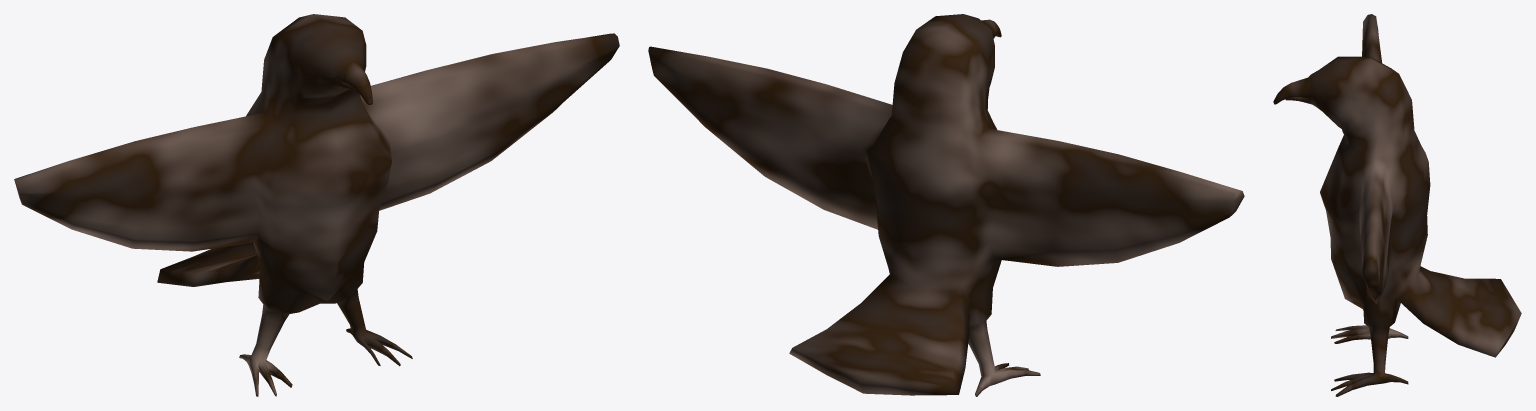
Rendered from TuguBanggai.fbx.
3 renders of one model, left to right at view 1: azimuth 30°, elevation 25°; view 2: azimuth 150°, elevation 25°; view 3: azimuth 270°, elevation 25°, orthographic. The views are drawn at different scales.
Parts seen in each view (by area): view 1: Cube.005; view 2: Cube.005; view 3: Cube.005.
Boxes of the visible parts, x1,y1,x2,y2 form: Cube.005: [14, 14, 619, 396]; Cube.005: [648, 14, 1244, 396]; Cube.005: [1273, 14, 1521, 396].
Bounding box in the file's own units: 498 × 277 × 205.
1 material, 1 textured.
